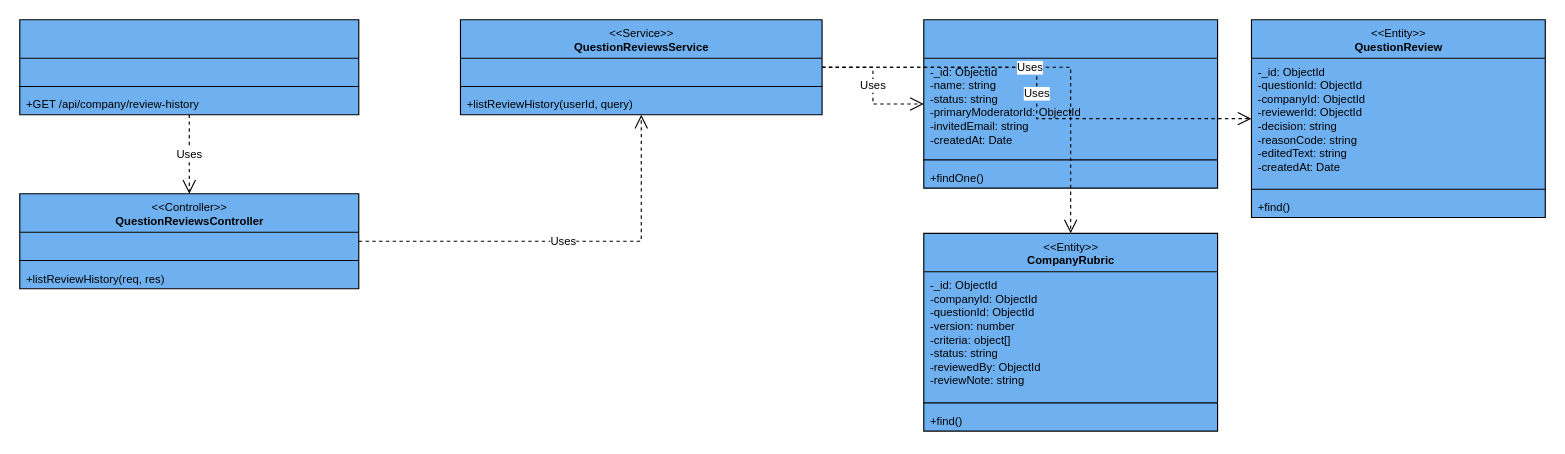
Image size: 1565x454. Some labels were removed from this diagram. Each missing label, with the box of its shape:
<<Entity>> PartnerCompany: (923, 19, 1218, 188)
<<Router>> questionReviewsRouter: (19, 19, 359, 115)
